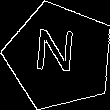N_S: (37, 29, 82, 83)
